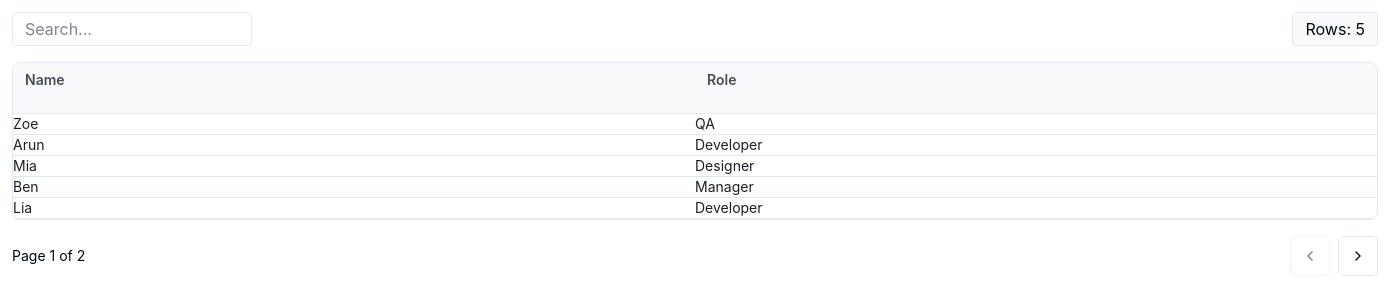
Test: Table › moves between pages with next and previous buttons
Click the button named "Next" at (1358, 256), box [1338,236,1378,276]
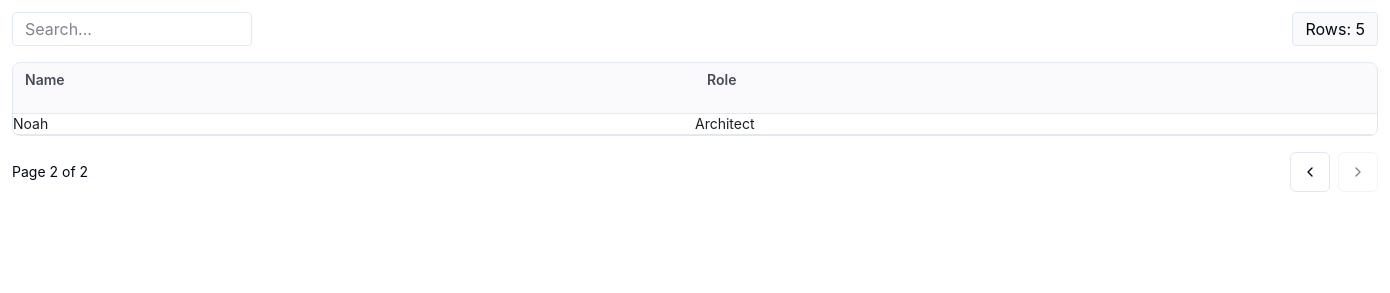
Expected: the text "Page 2 of 2" is shown, [12,162,88,182]
Expected: the text "Noah" is shown, [13,113,695,134]
Expected: the button named "Next" is disabled, [1338,152,1378,192]
Click the button named "Previous" at (1310, 172), box [1290,152,1330,192]
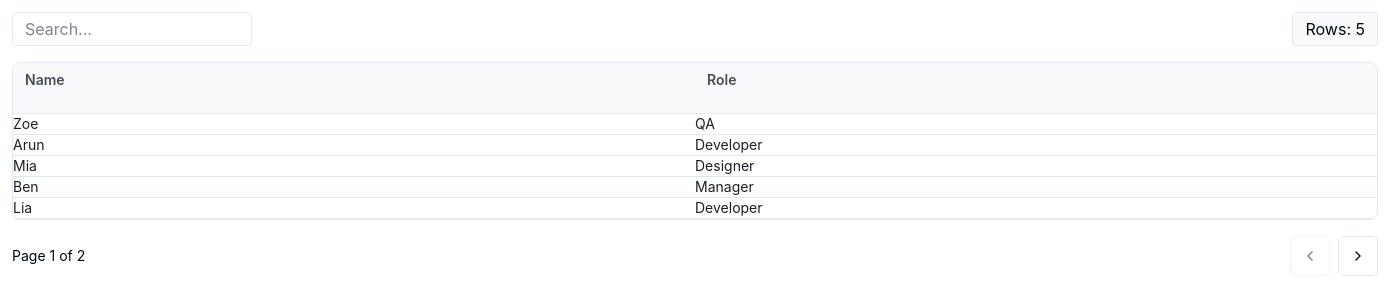
Expected: the text "Page 1 of 2" is shown, [12,246,85,266]
